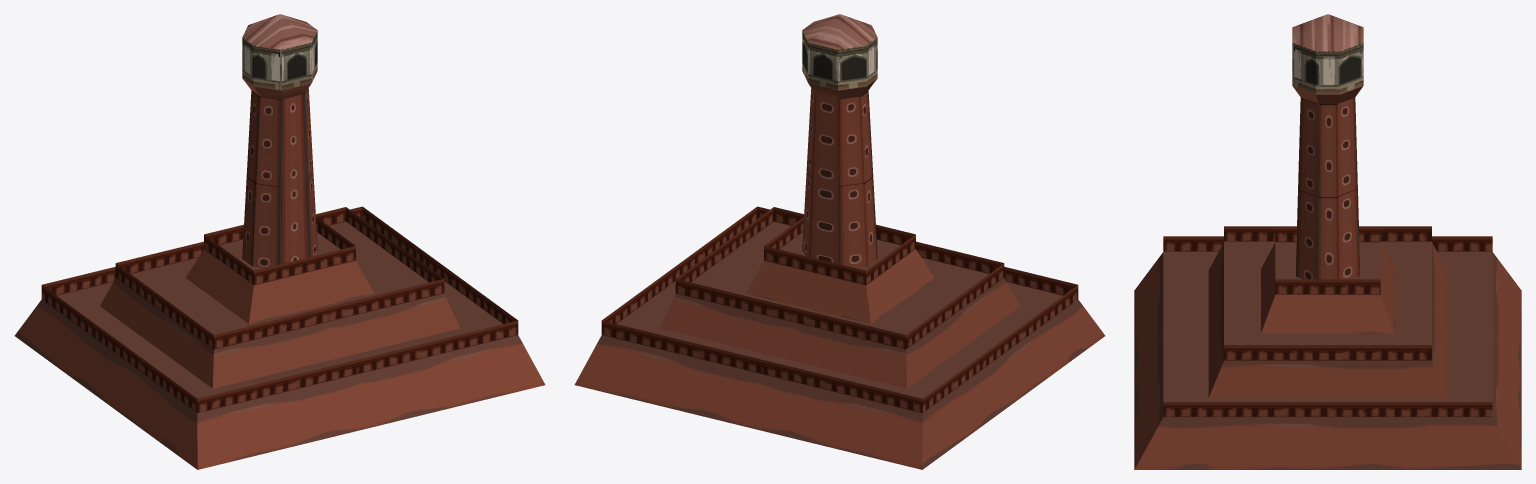
File: SM_Citadel_02.fbx
3 views of the same model, side by side, from view 1: azimuth 30°, elevation 25°; view 2: azimuth 150°, elevation 25°; view 3: azimuth 270°, elevation 25° (orthographic). The views are drawn at different scales.
Parts seen in each view (by area): view 1: SM_Citadel_02; view 2: SM_Citadel_02; view 3: SM_Citadel_02.
Boxes of the visible parts, x1=… form: SM_Citadel_02: x1=14, y1=14, x2=545, y2=469; SM_Citadel_02: x1=574, y1=14, x2=1105, y2=469; SM_Citadel_02: x1=1134, y1=14, x2=1521, y2=469.
Bounding box in the file's own units: 39.82 × 37.89 × 36.3.
